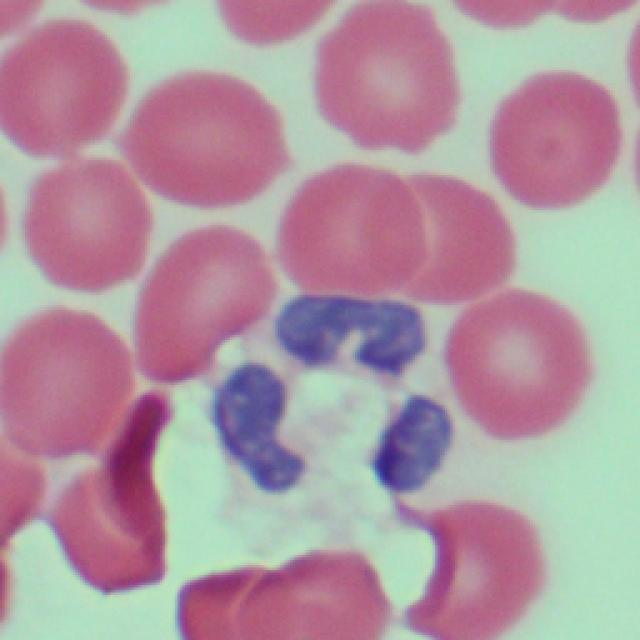RBC: (272, 162, 514, 306), (0, 297, 128, 531), (120, 206, 265, 386), (121, 56, 283, 212), (445, 283, 589, 448), (310, 0, 462, 154), (483, 61, 620, 218), (0, 7, 126, 172), (408, 483, 539, 639), (18, 155, 146, 300), (384, 171, 509, 313), (188, 560, 396, 640), (208, 0, 343, 48)
WBC: (229, 290, 467, 507)
